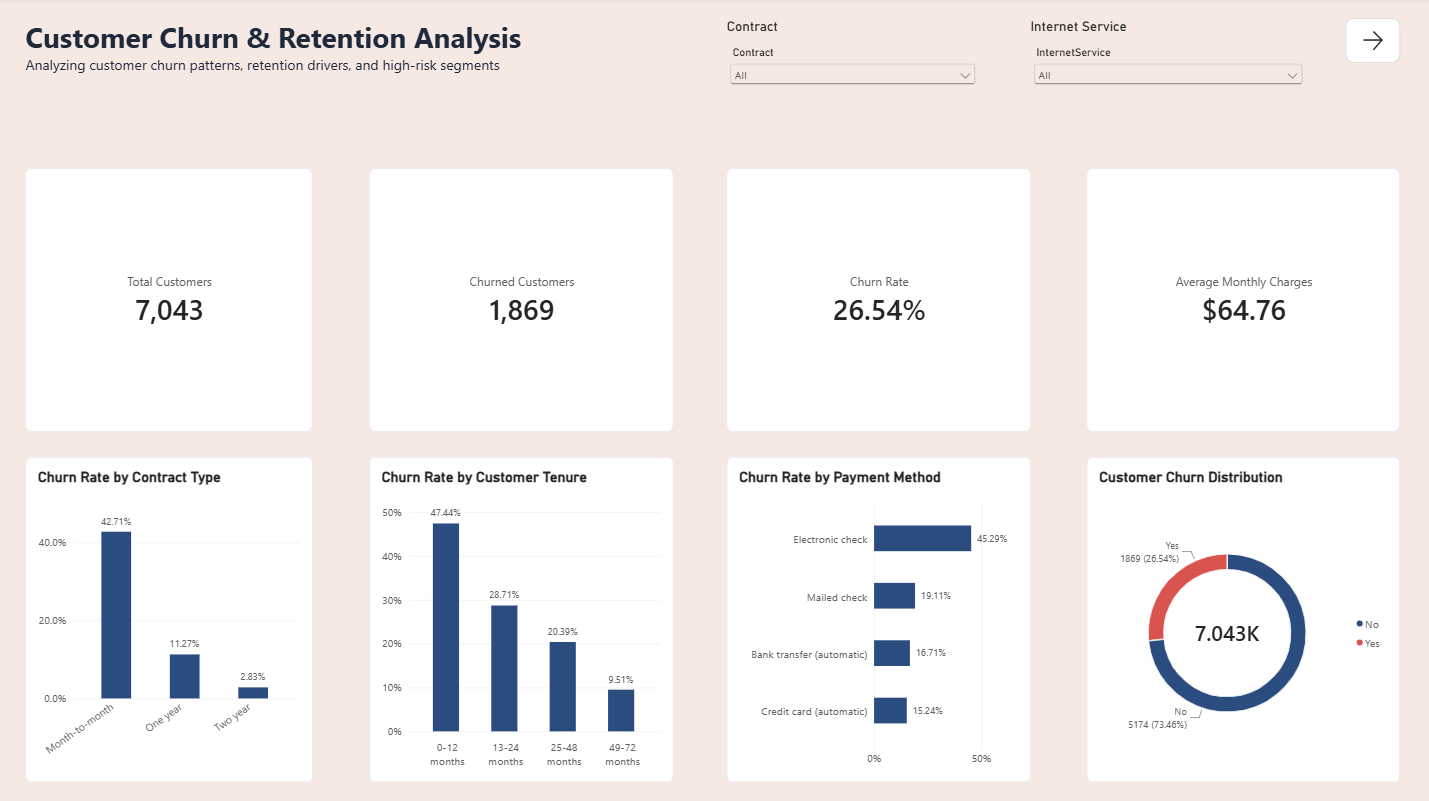

The page's visual inventory and layout, read from the dashboard file:
{"tool":"powerbi","page":{"name":"Executive Overview","canvas":[1920,1080],"ordinal":0},"visuals":[{"type":"cardVisual","fields":{"Data":["Count(telco_customer_churn_cleaned.customerID)"]},"box":[43.6,228.5,383.7,352.3],"z":0},{"type":"cardVisual","fields":{"Data":["Sum(telco_customer_churn_cleaned.ChurnFlag)"]},"box":[502.3,228.5,406.4,352.3],"z":1000},{"type":"cardVisual","fields":{"Data":["customer_churn.Churn Rate"]},"box":[980.2,228.5,406.4,352.3],"z":2000},{"type":"cardVisual","fields":{"Data":["Avg(telco_customer_churn_cleaned.MonthlyCharges)"]},"box":[1461.6,228.5,418.6,352.3],"z":3000},{"type":"clusteredColumnChart","title":"Churn Rate by Contract Type","fields":{"Category":["customer_churn.Contract"],"Y":["customer_churn.Churn Rate"]},"box":[43.6,614,383.7,434.3],"z":4000},{"type":"clusteredColumnChart","title":"Churn Rate by Customer Tenure","fields":{"Category":["customer_churn.Tenure Group"],"Y":["customer_churn.Churn Rate"]},"box":[502.3,614,406.4,434.3],"z":5000},{"type":"clusteredBarChart","title":"Churn Rate by Payment Method","fields":{"Category":["customer_churn.PaymentMethod"],"Y":["customer_churn.Churn Rate"]},"box":[980.2,614,406.4,434.3],"z":6000},{"type":"donutChart","title":"Customer Churn Distribution","fields":{"Category":["customer_churn.Churn"],"Y":["CountNonNull(customer_churn.customerID)"]},"box":[1461.6,614,418.6,434.3],"z":7000},{"type":"textbox","box":[43.6,27.9,715.1,183.1],"z":8000},{"type":"slicer","title":"Contract","fields":{"Values":["customer_churn.Contract"]},"box":[980.2,27.9,336.6,183.1],"z":9000},{"type":"slicer","title":"Internet Service","fields":{"Values":["customer_churn.InternetService"]},"box":[1386.6,27.9,368,183.1],"z":10000},{"type":"actionButton","box":[1807,27.9,73.3,59.3],"z":11001}]}

Visuals, with their boxes in screenshot pixels (x1, y1, x2, y2), scaled from the page's 1920x1080 canvas onto the 1429x801 screenshot:
cardVisual - Count(telco_customer_churn_cleaned.customerID): 32 169 318 431
cardVisual - Sum(telco_customer_churn_cleaned.ChurnFlag): 374 169 676 431
cardVisual - customer_churn.Churn Rate: 730 169 1032 431
cardVisual - Avg(telco_customer_churn_cleaned.MonthlyCharges): 1088 169 1399 431
"Churn Rate by Contract Type" clusteredColumnChart: 32 455 318 777
"Churn Rate by Customer Tenure" clusteredColumnChart: 374 455 676 777
"Churn Rate by Payment Method" clusteredBarChart: 730 455 1032 777
"Customer Churn Distribution" donutChart: 1088 455 1399 777
textbox: 32 21 565 156
"Contract" slicer: 730 21 980 156
"Internet Service" slicer: 1032 21 1306 156
actionButton: 1345 21 1399 65
